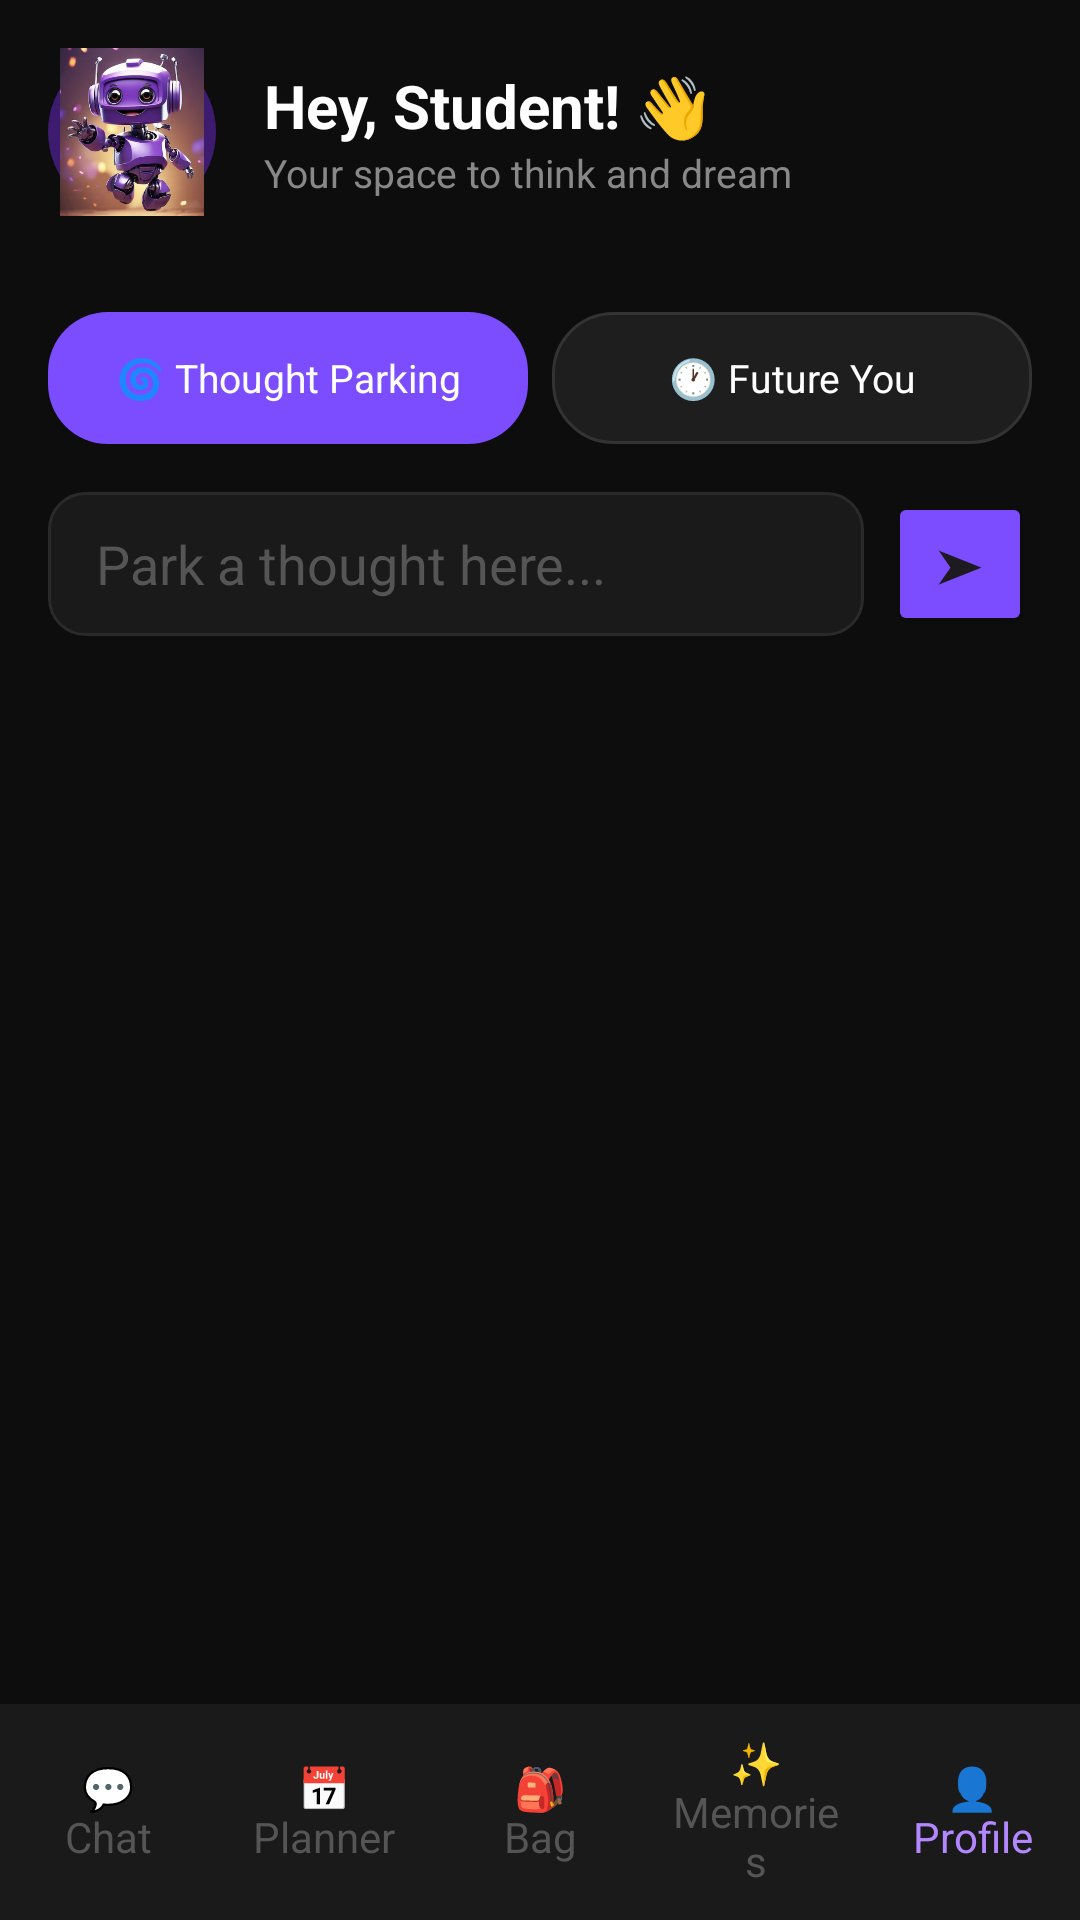

Locate icon controls on the screen. Image size 1080x1920, boxes as (x1, y1, x2, y2).
robot: (48, 48, 216, 216)
